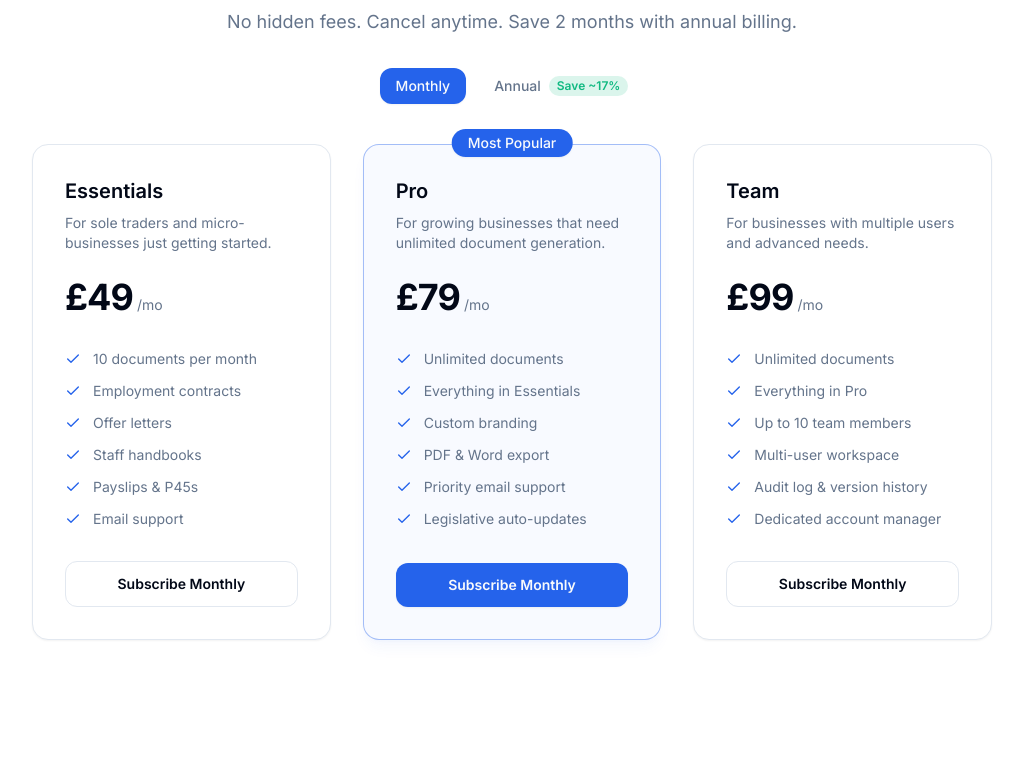
Pricing → Checkout integration › Authenticated user › shows a network error when fetch fails
(page scrolled)
Click the button "Subscribe Monthly" below "Payslips & P45s". click: click(181, 584)
box: [65,561,298,607]
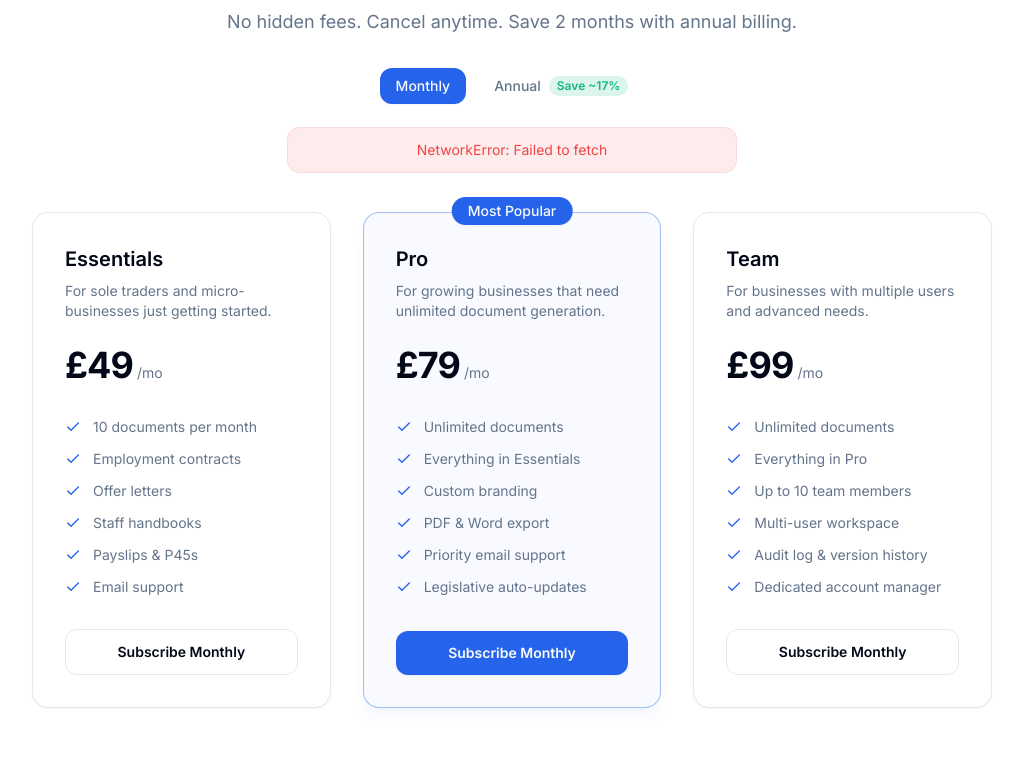
Result: the text "NetworkError: Failed to fetch" is shown at [288,128,736,172]
